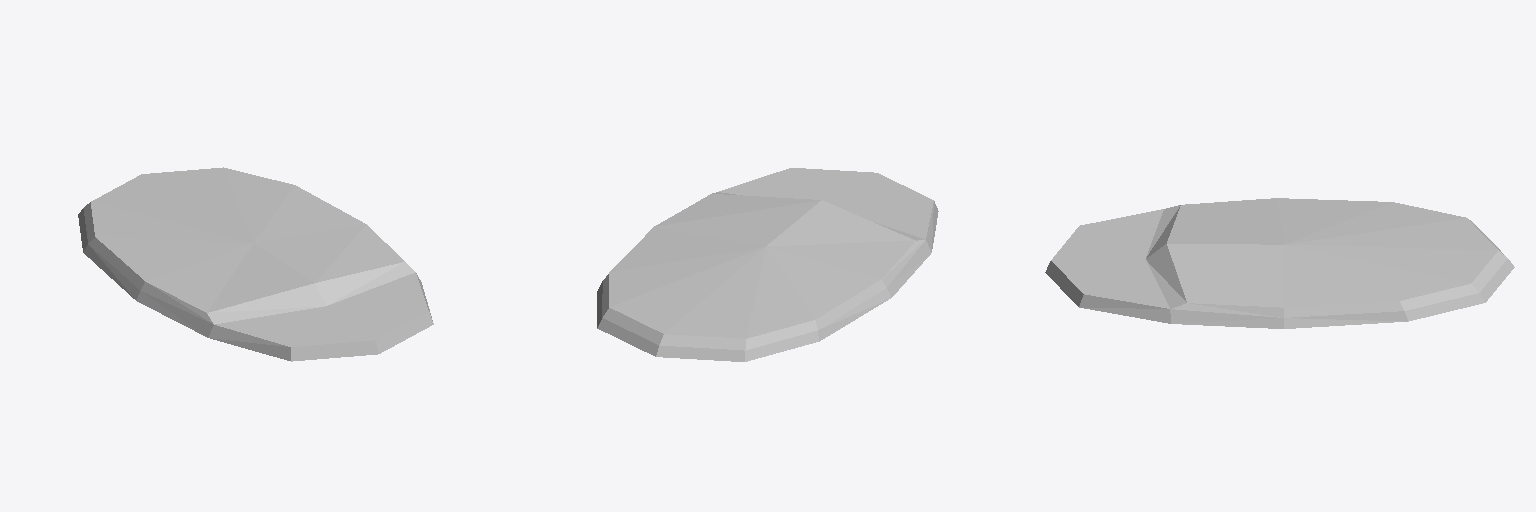
File: bedroll.obj
3 views of the same model, side by side, from view 1: azimuth 30°, elevation 25°; view 2: azimuth 150°, elevation 25°; view 3: azimuth 270°, elevation 25° (orthographic).
Visible parts, largest first — view 1: Cylinder.007_Cylinder.004; view 2: Cylinder.007_Cylinder.004; view 3: Cylinder.007_Cylinder.004.
Boxes of the visible parts, x1,y1,x2,y2 form: Cylinder.007_Cylinder.004: [78, 167, 433, 361]; Cylinder.007_Cylinder.004: [597, 168, 938, 361]; Cylinder.007_Cylinder.004: [1045, 198, 1514, 328].
Bounding box in the file's own units: 10.42 × 1.13 × 17.41.